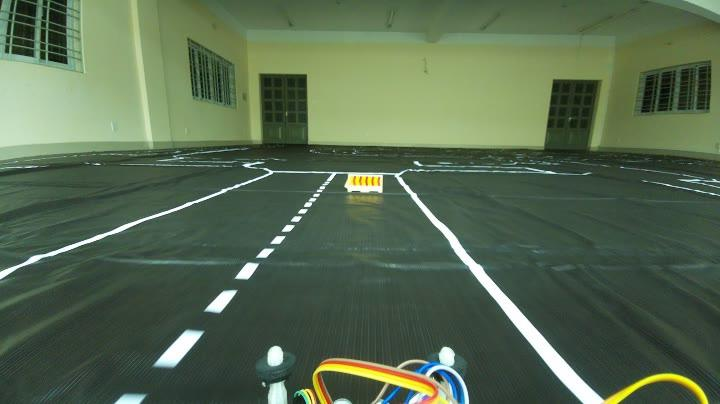roadblock: (342, 168, 391, 204)
